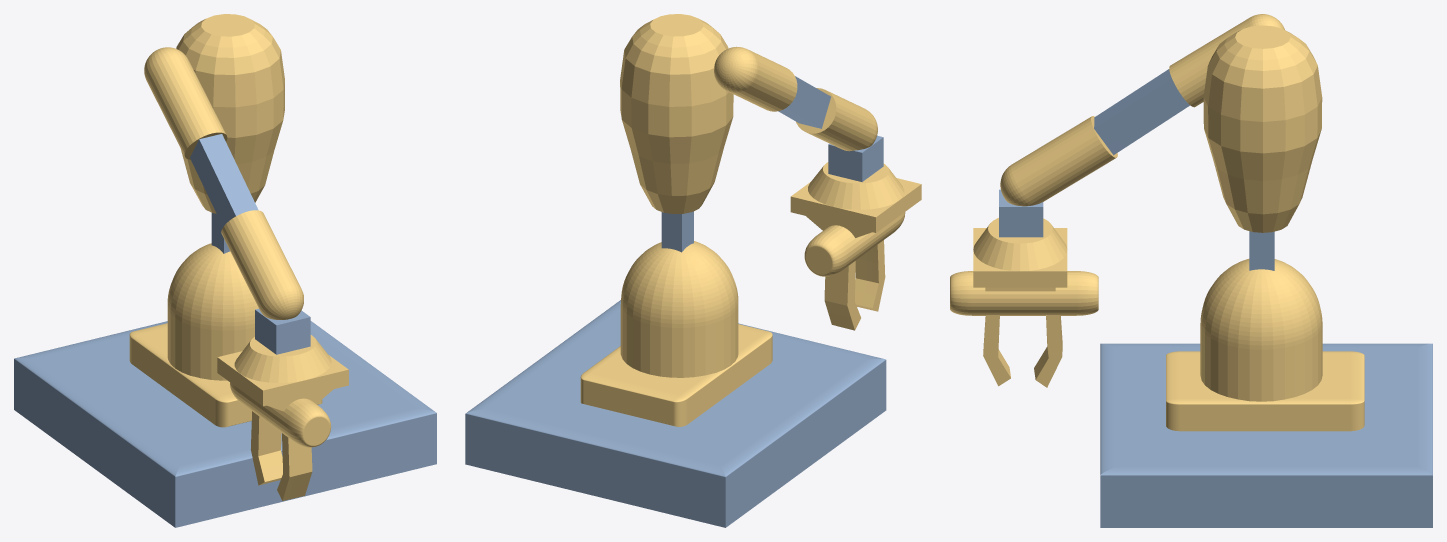
File: machine_hand.fbx
3 renders of one model, left to right at view 1: azimuth 30°, elevation 25°; view 2: azimuth 150°, elevation 25°; view 3: azimuth 270°, elevation 25°, orthographic. The views are drawn at different scales.
Parts seen in each view (by area): view 1: Cylinder.003; view 2: Cylinder.003; view 3: Cylinder.003.
Boxes of the visible parts, x1=… form: Cylinder.003: x1=14, y1=14, x2=436, y2=527; Cylinder.003: x1=465, y1=14, x2=921, y2=527; Cylinder.003: x1=950, y1=14, x2=1432, y2=527.
Size of the model in its own units: 272 by 410 by 421.
